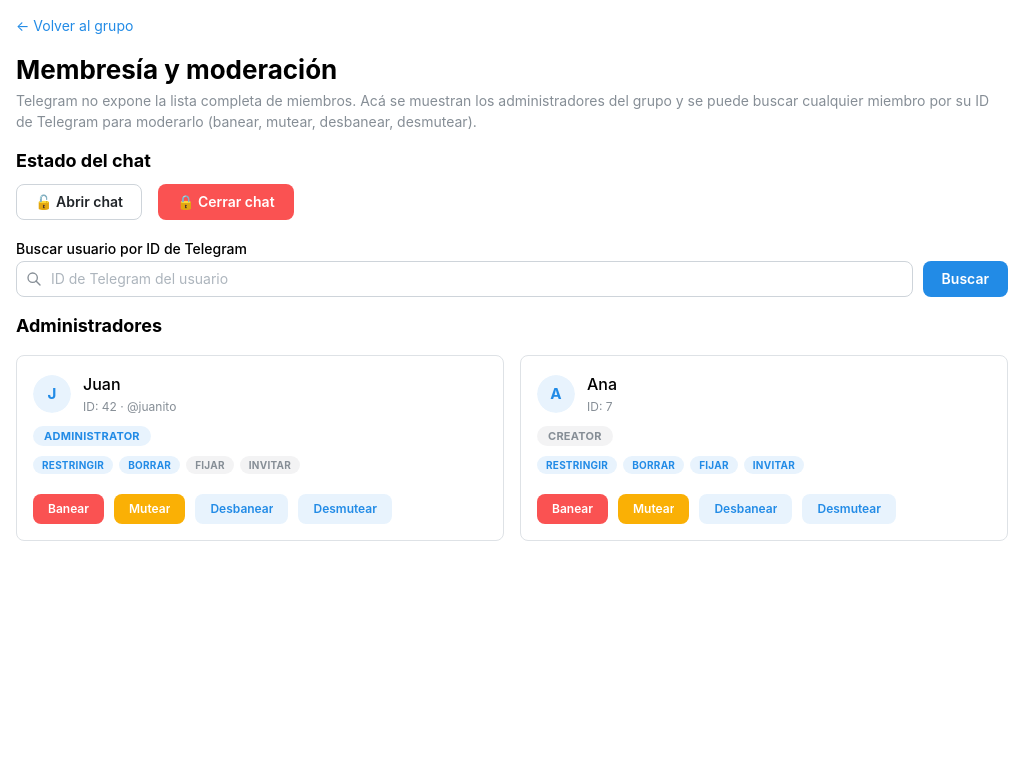
Test: GroupUsersPage › abre el Modal de confirmacion al hacer clic en Banear
Click the button "Banear" below "administrator". click: point(68, 509)
box: top-left (33, 494), bottom-right (104, 524)
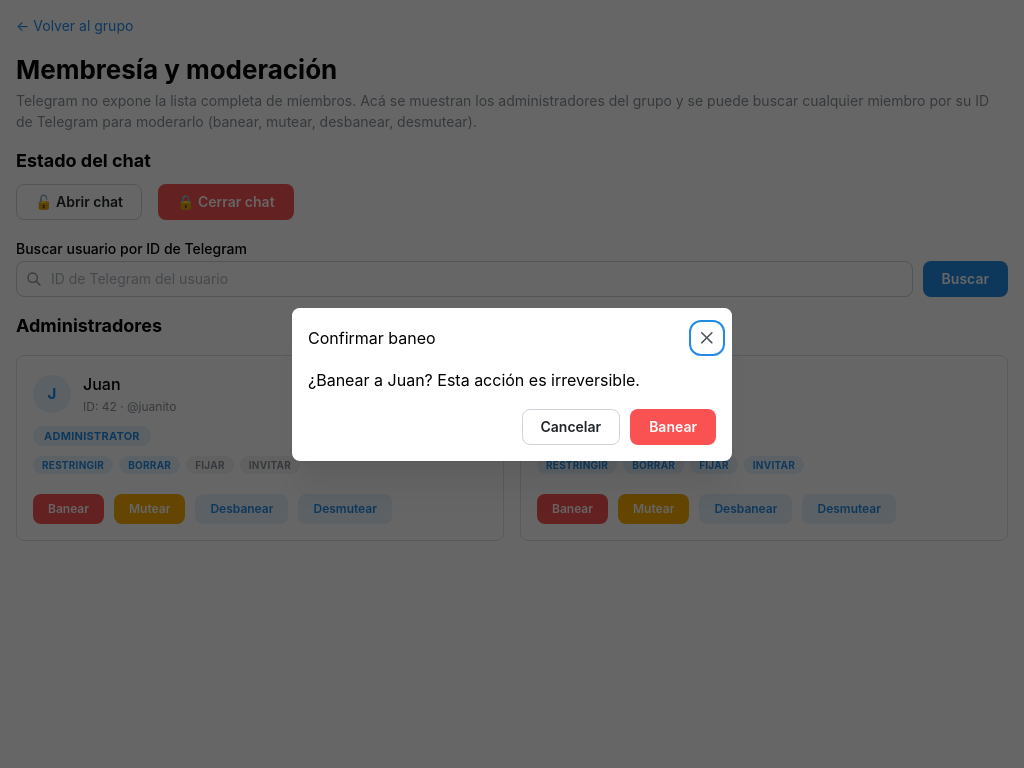
Check: the heading "Confirmar baneo" is shown, box top-left (308, 330), bottom-right (436, 346)
Check: the text "¿Banear a Juan? Esta acción es irreversible." is shown, box top-left (308, 370), bottom-right (640, 390)
